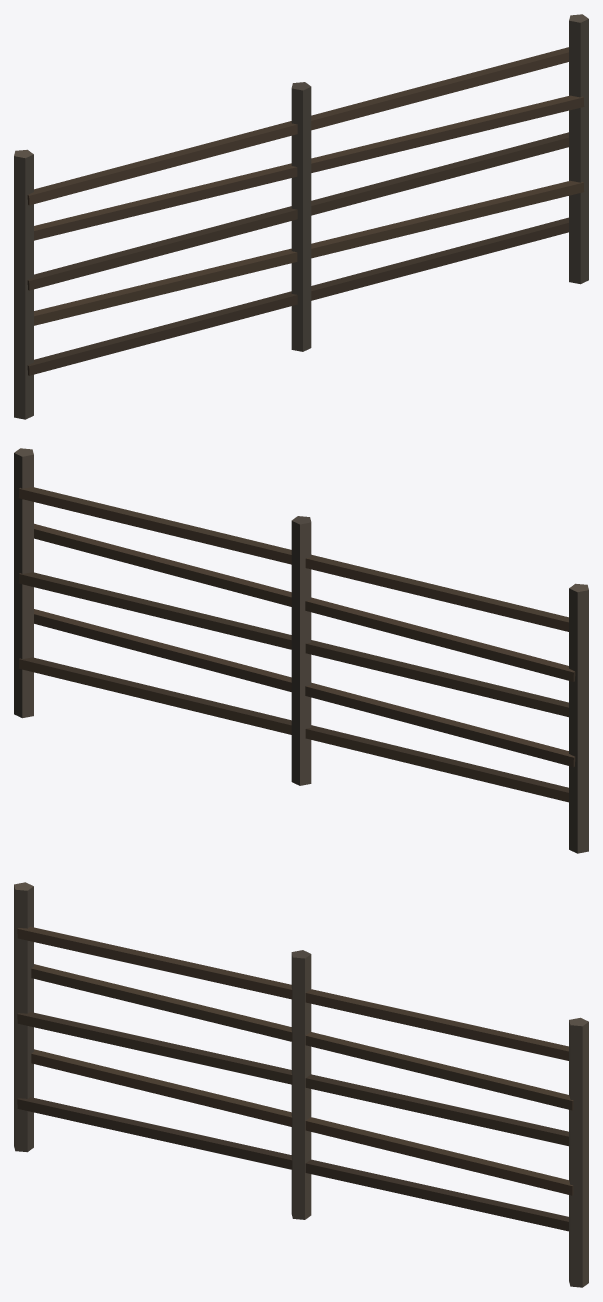
File: walk_prop_fence.glb
3 views of the same model, one above another, from view 1: azimuth 30°, elevation 25°; view 2: azimuth 150°, elevation 25°; view 3: azimuth 330°, elevation 25° (orthographic).
Parts seen in each view (by area): view 1: walk_prop_fence; view 2: walk_prop_fence; view 3: walk_prop_fence.
Boxes of the visible parts, <box> form: walk_prop_fence: <box>14,14,588,419</box>; walk_prop_fence: <box>14,448,588,853</box>; walk_prop_fence: <box>14,882,588,1287</box>.
Size of the model in its own units: 3.09 by 1.35 by 0.1095.
1 material, 1 textured.
